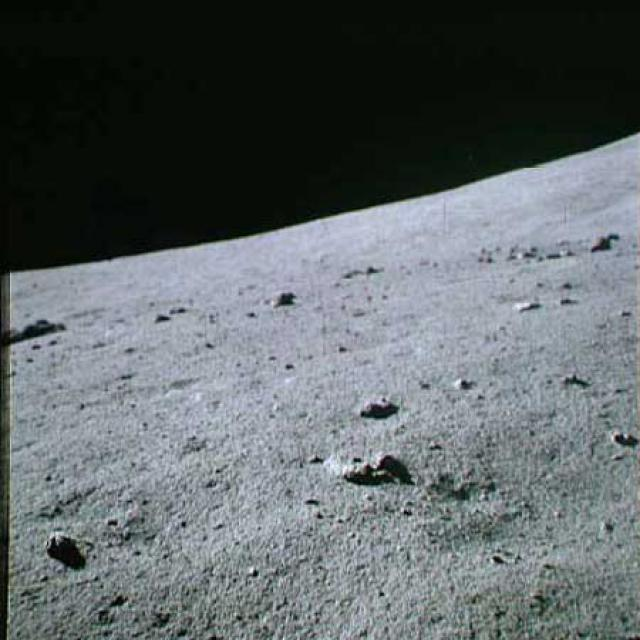rock: (316, 442, 412, 496), (41, 518, 94, 565), (2, 310, 73, 344), (351, 393, 404, 418), (266, 288, 302, 316)
